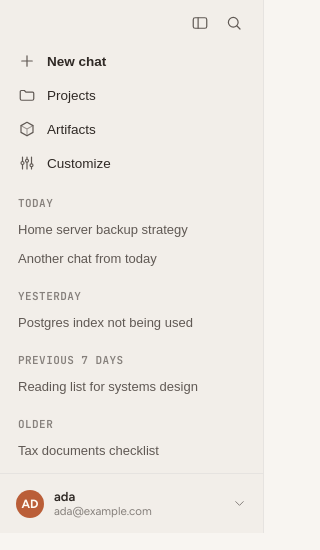
Test: Sidebar › clicking the account row opens the popover
This screenshot has width=320, height=550.
Click the button "AD ada ada@example.com".
click(132, 504)  # box [8, 482, 255, 525]
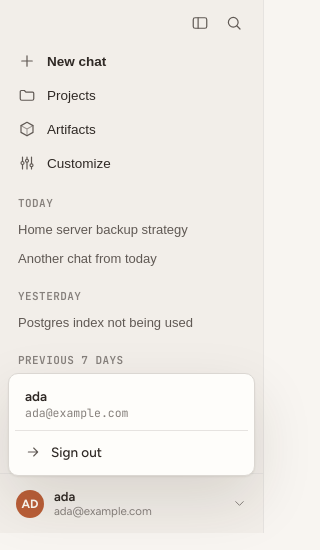
Now the text "Sign out" is shown, box [51, 444, 102, 460]
